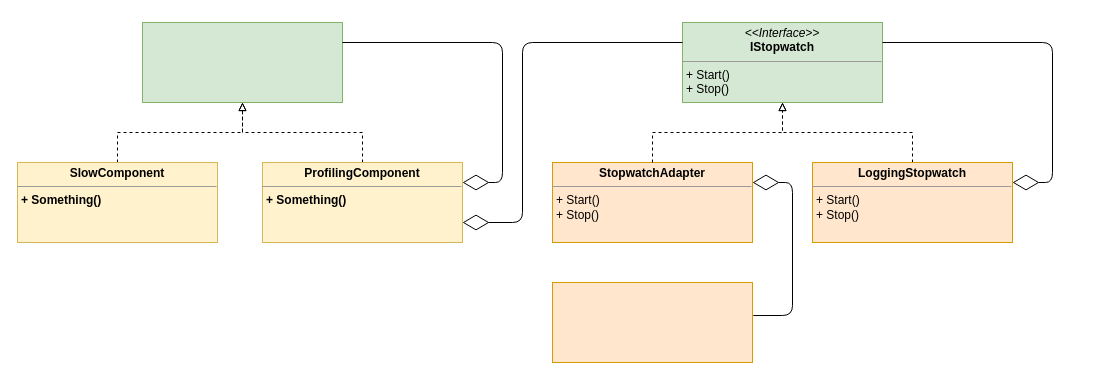
Image size: 1096x380. Some labels were removed from this diagram. The shapes that lost their labels are listed below. From the top down, each one's centre as x and y in pixels, then its label:
(x=242, y=62): <<Interface>> IComponent + Something()
(x=652, y=322): Stopwatch
